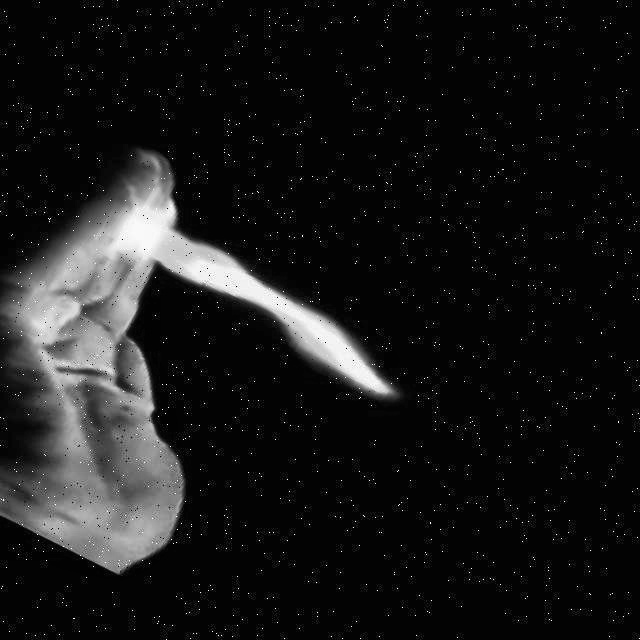Fire: (84, 169, 453, 450)
